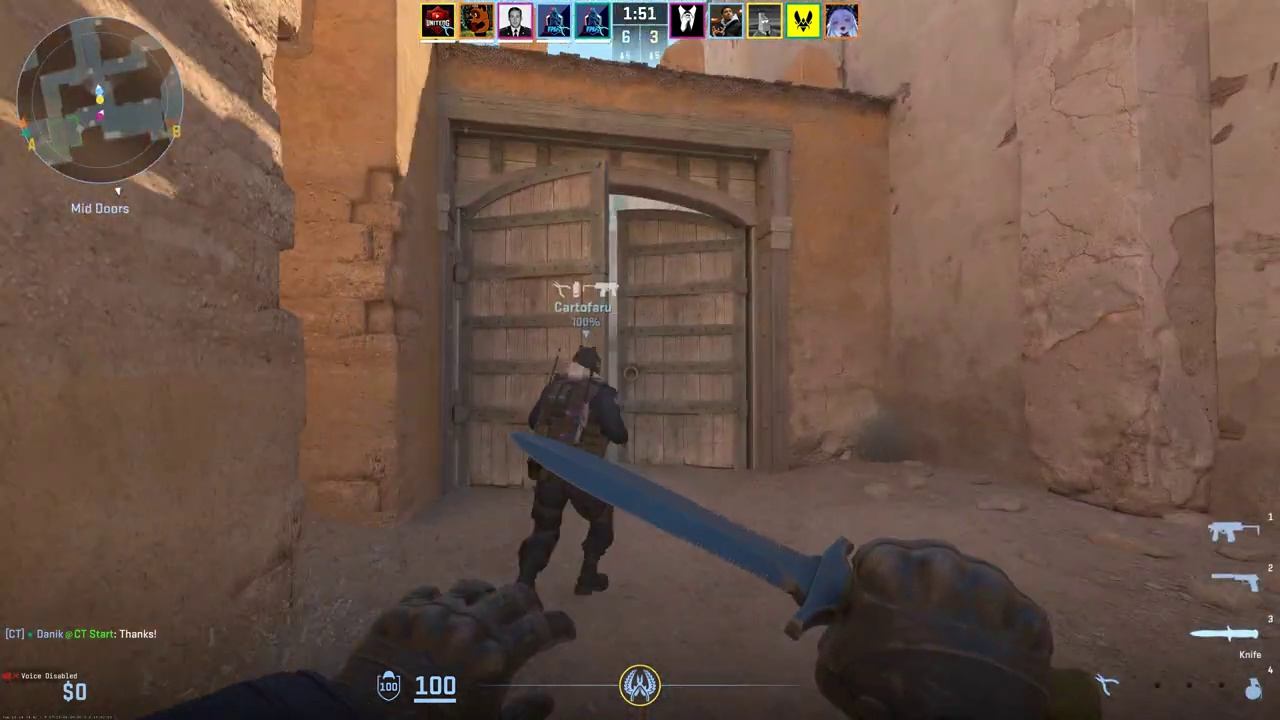CT: (522, 347, 624, 605)
